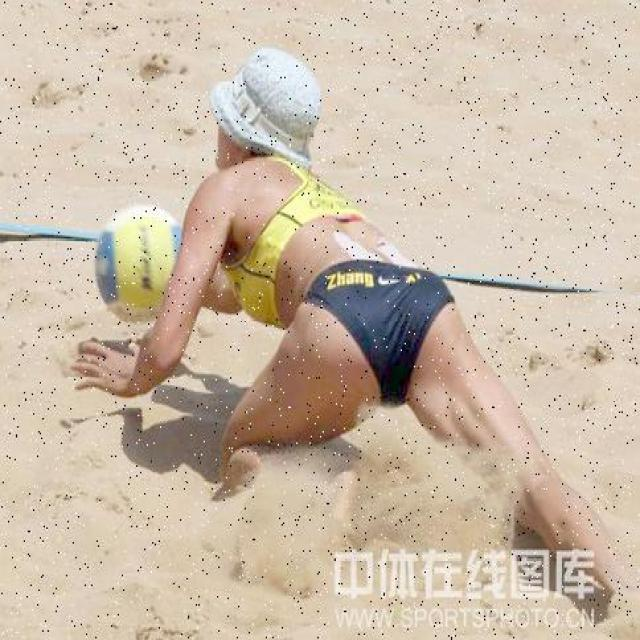fall: (162, 74, 564, 522)
